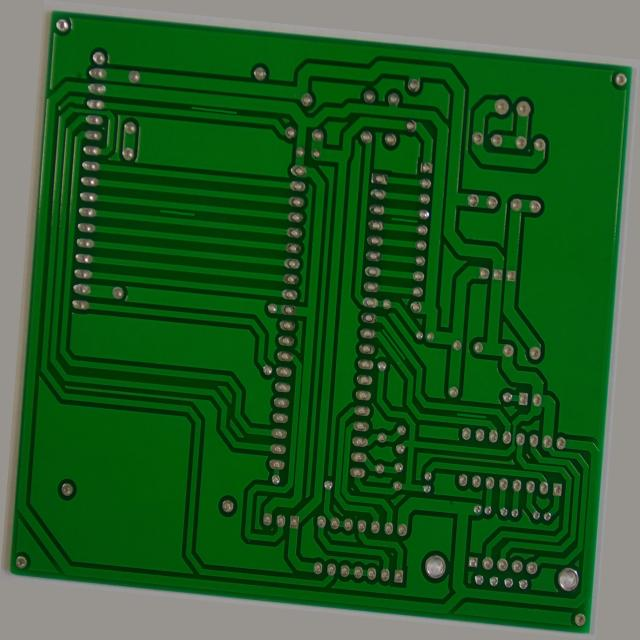spurious_copper: (384, 319, 416, 357), (160, 93, 217, 109), (135, 209, 180, 225), (469, 400, 510, 416), (383, 194, 420, 210)
